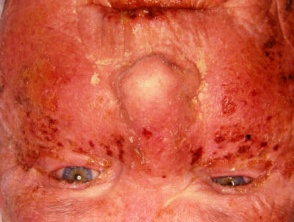SJS-TEN: (0, 49, 294, 202), (95, 0, 219, 26)
